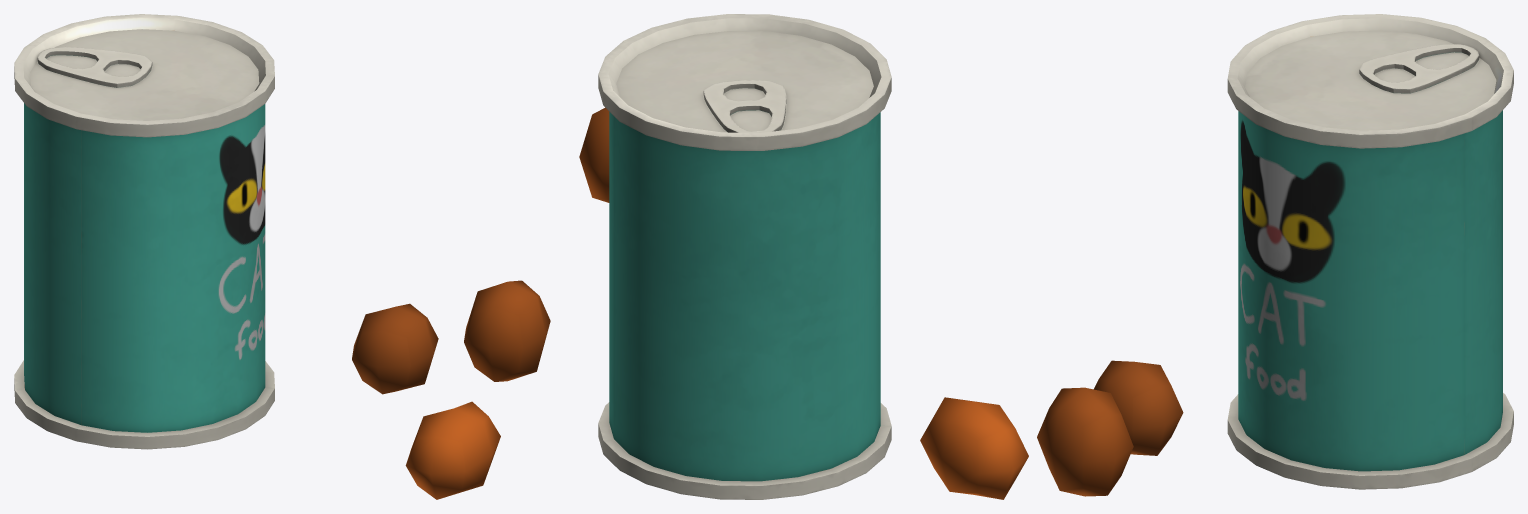
The model's file is Cat Food.fbx.
3 renders of one model, left to right at view 1: azimuth 30°, elevation 25°; view 2: azimuth 150°, elevation 25°; view 3: azimuth 270°, elevation 25°, orthographic. The views are drawn at different scales.
Parts seen in each view (by area): view 1: Cat_Food, Cat_food2, Cat_food1, Cat_food; view 2: Cat_Food, Cat_food2; view 3: Cat_Food, Cat_food2, Cat_food1, Cat_food.
Part boxes in pixels (x1=…): Cat_Food: x1=14, y1=14, x2=274, y2=449; Cat_food2: x1=464, y1=280, x2=550, y2=381; Cat_food1: x1=405, y1=401, x2=500, y2=499; Cat_food: x1=352, y1=303, x2=438, y2=394; Cat_Food: x1=598, y1=14, x2=891, y2=499; Cat_food2: x1=579, y1=107, x2=609, y2=202; Cat_Food: x1=1227, y1=14, x2=1513, y2=489; Cat_food2: x1=1037, y1=387, x2=1133, y2=496; Cat_food1: x1=920, y1=397, x2=1028, y2=499; Cat_food: x1=1094, y1=360, x2=1183, y2=455.
Size of the model in its own units: 30.28 by 24.23 by 36.77.
Materials: 2 (2 with a texture image).
